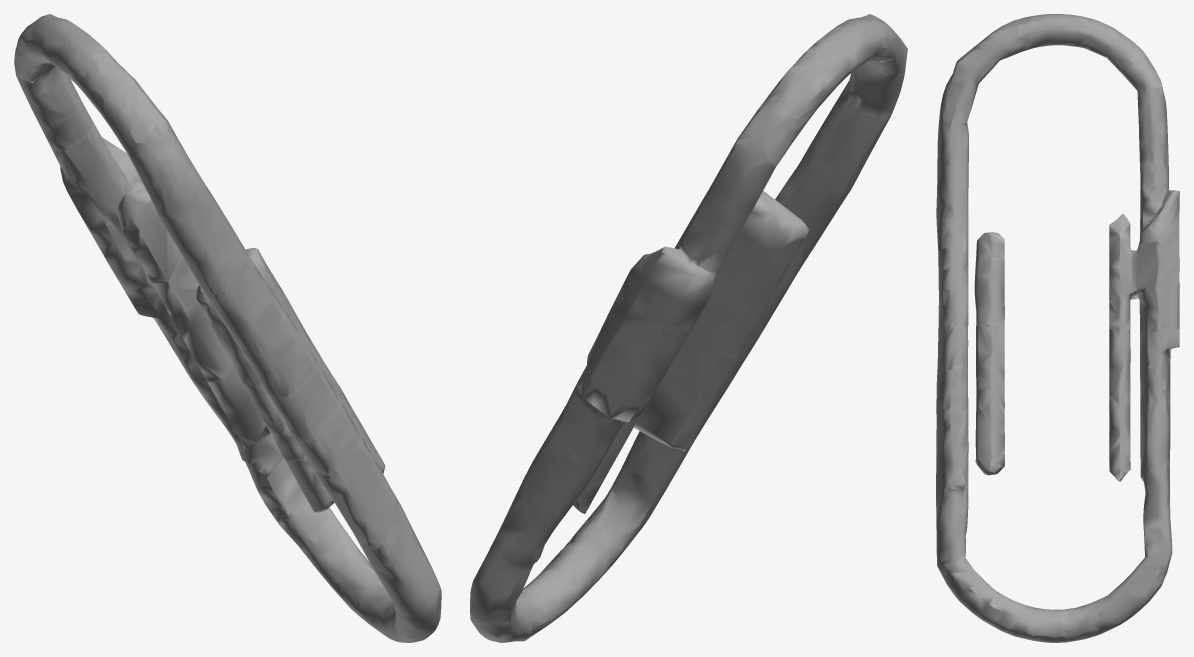
File: xs_clip.glb
The picture shows the model from 3 angles, left to right: view 1: azimuth 30°, elevation 25°; view 2: azimuth 150°, elevation 25°; view 3: azimuth 270°, elevation 25°; orthographic projection. The views are drawn at different scales.
Parts seen in each view (by area): view 1: tripo_node_60ae787d-56a0-432b-b518-7c835f4c61e6; view 2: tripo_node_60ae787d-56a0-432b-b518-7c835f4c61e6; view 3: tripo_node_60ae787d-56a0-432b-b518-7c835f4c61e6.
Part boxes in pixels (bbox=[...]): tripo_node_60ae787d-56a0-432b-b518-7c835f4c61e6: bbox=[14, 14, 441, 642]; tripo_node_60ae787d-56a0-432b-b518-7c835f4c61e6: bbox=[470, 14, 907, 642]; tripo_node_60ae787d-56a0-432b-b518-7c835f4c61e6: bbox=[936, 14, 1179, 642].
Bounding box in the file's own units: 0.5447 × 1 × 0.4324.
Materials: 1 (1 with a texture image).
